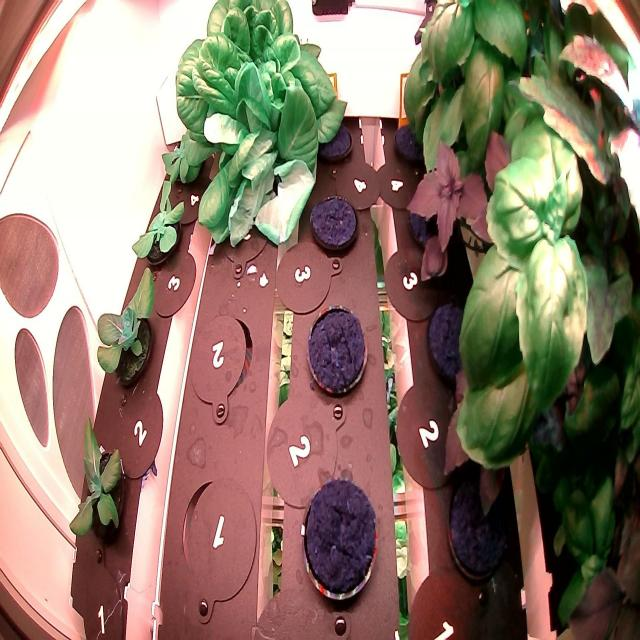Ready: (162, 1, 346, 247)
empty_pod: (175, 462, 265, 622), (186, 310, 258, 420)
pod: (297, 471, 382, 623), (441, 466, 516, 588), (300, 294, 375, 409), (422, 292, 484, 387), (306, 176, 362, 262), (309, 102, 358, 176), (390, 111, 442, 174)
young: (90, 260, 167, 406), (64, 409, 135, 549), (129, 171, 191, 274), (160, 118, 222, 188)
